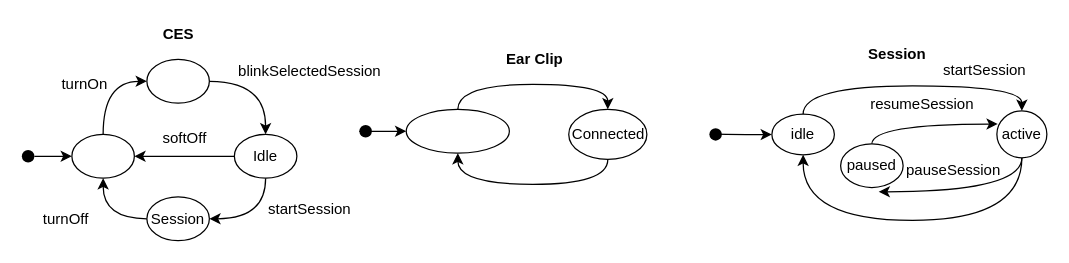
Some shapes in this 1069 by 263 pixel diagram are drawn without their labels. The shapes that lost their labels are listed below. From the top down, each one's box as (x1, y1, x2, y2) in pixels, then its label:
(146, 58, 209, 103): On
(405, 108, 509, 153): Disconnected
(71, 133, 134, 178): Off
